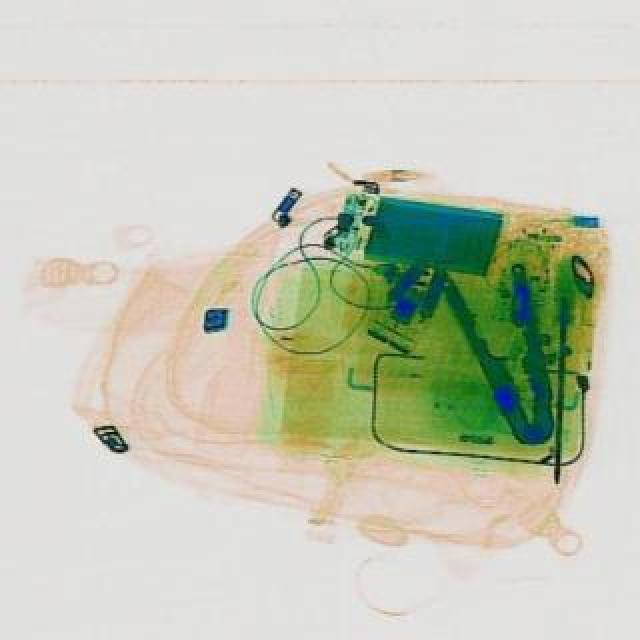wrench: (436, 254, 588, 454)
